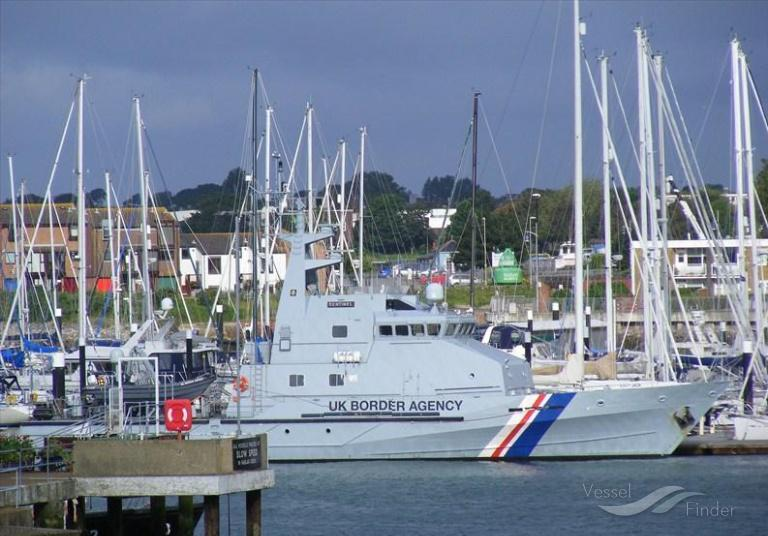OCR: (324, 400, 466, 418)
